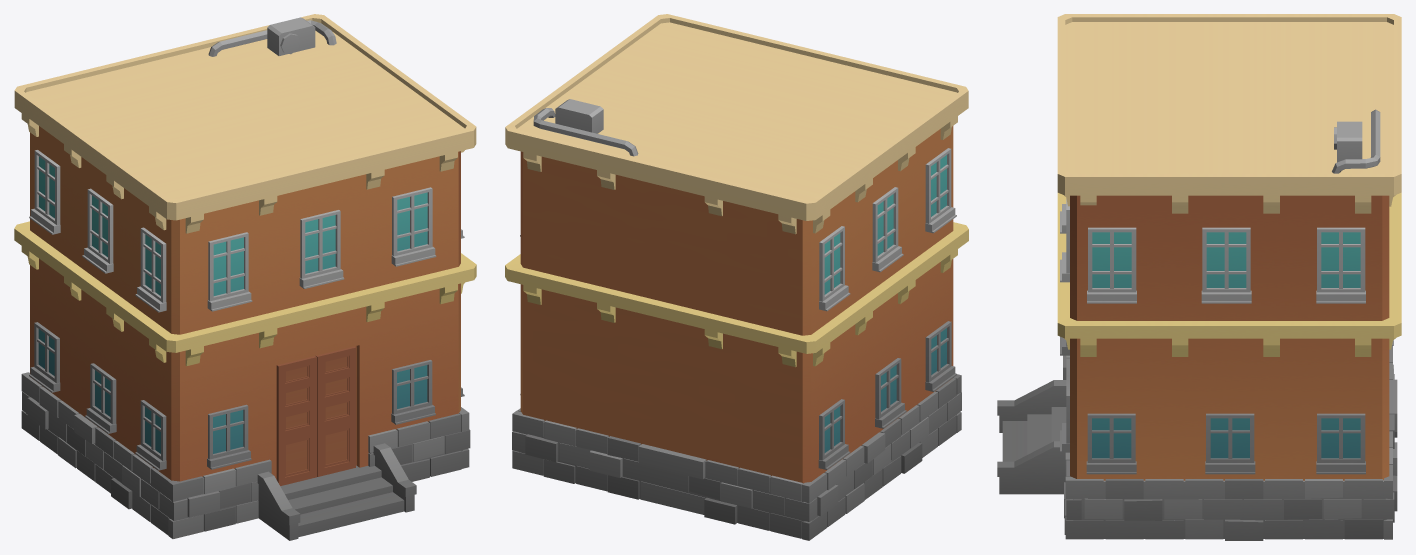
Rendered from AptBuilding_2Floorsv1.fbx.
3 views of the same model, side by side, from view 1: azimuth 30°, elevation 25°; view 2: azimuth 150°, elevation 25°; view 3: azimuth 270°, elevation 25° (orthographic). The views are drawn at different scales.
Parts seen in each view (by area): view 1: polySurface250; view 2: polySurface250; view 3: polySurface250.
Part boxes in pixels (left/top/right/bottom): polySurface250: left=14, top=14, right=476, bottom=540; polySurface250: left=505, top=14, right=968, bottom=540; polySurface250: left=997, top=14, right=1401, bottom=540.
Size of the model in its own units: 242 by 266 by 253.
1 material, 1 textured.
